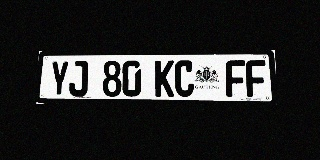0: (122, 60, 141, 97)
8: (102, 61, 122, 97)
C: (175, 60, 194, 97)
F: (226, 60, 246, 97), (246, 60, 266, 97)
J: (69, 61, 88, 97)
K: (155, 60, 174, 97)
Y: (49, 61, 69, 96)
